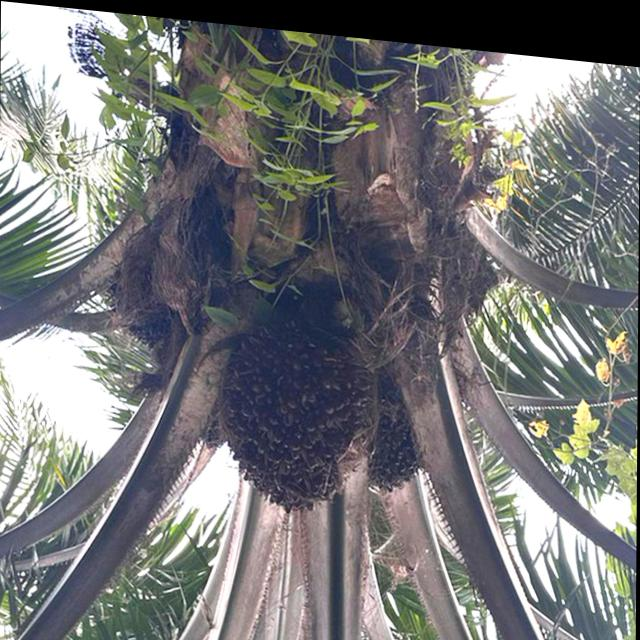unripe: (207, 291, 384, 519)
